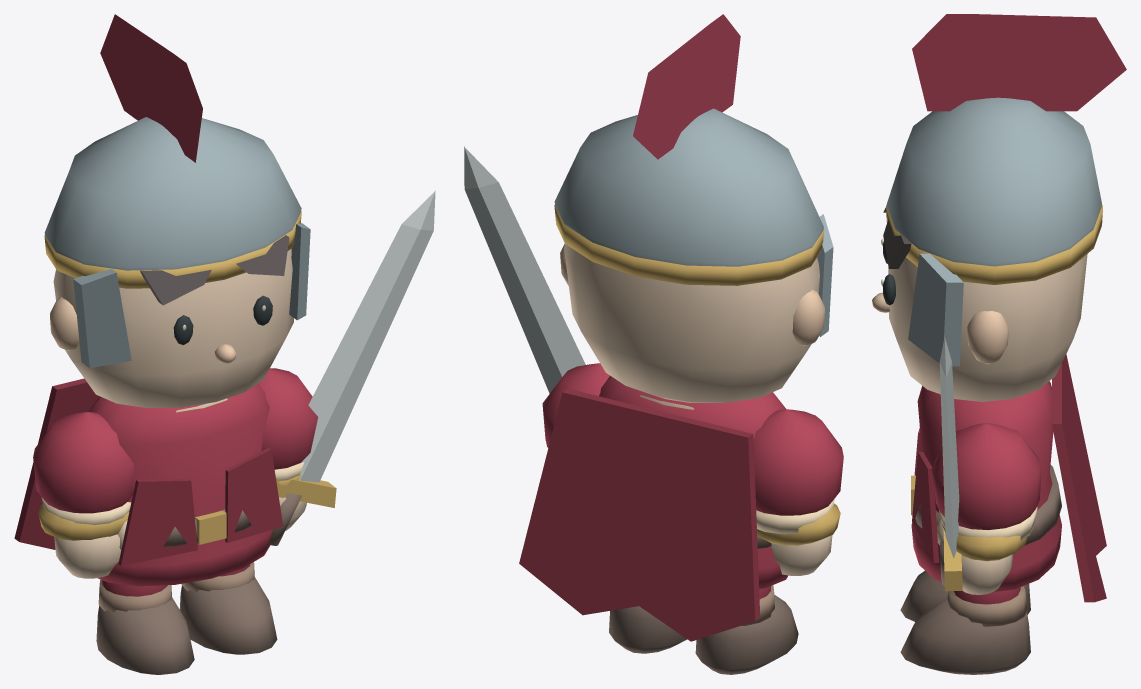
File: giant.glb
3 renders of one model, left to right at view 1: azimuth 30°, elevation 25°; view 2: azimuth 150°, elevation 25°; view 3: azimuth 270°, elevation 25°, orthographic. The views are drawn at different scales.
Visible parts, largest first — view 1: Regional helmet, Soft cheek head, Short folded tunic, Shaped bevel sword, Puff sleeve, Roman horsehair fan, Round leather boot, Round leather boot.001, Coat fold, Roman cheekplate, Puff sleeve.001, Coat fold.001 (+15 smaller); view 2: Short scalloped cape, Regional helmet, Soft cheek head, Shaped bevel sword, Roman horsehair fan, Puff sleeve, Helmet brow band, Short folded tunic, Round leather boot, Round leather boot.001, Puff sleeve.001, Little mitten (+4 smaller); view 3: Regional helmet, Roman horsehair fan, Soft cheek head, Short folded tunic, Puff sleeve.001, Round leather boot.001, Short scalloped cape, Roman cheekplate.001, Helmet brow band, Shaped bevel sword, Coat fold.001, Ear.001 (+9 smaller).
Part boxes in pixels (bbox=[...]): Regional helmet: bbox=[44, 117, 301, 270]; Soft cheek head: bbox=[53, 249, 293, 407]; Short folded tunic: bbox=[88, 383, 273, 586]; Shaped bevel sword: bbox=[299, 191, 435, 482]; Puff sleeve: bbox=[33, 412, 133, 513]; Roman horsehair fan: bbox=[100, 14, 202, 162]; Round leather boot: bbox=[96, 597, 194, 674]; Round leather boot.001: bbox=[179, 577, 277, 654]; Coat fold: bbox=[118, 479, 197, 565]; Roman cheekplate: bbox=[73, 269, 131, 367]; Puff sleeve.001: bbox=[258, 368, 318, 469]; Coat fold.001: bbox=[225, 448, 283, 542]; Short scalloped cape: bbox=[519, 388, 760, 641]; Regional helmet: bbox=[554, 108, 823, 266]; Soft cheek head: bbox=[564, 244, 819, 402]; Shaped bevel sword: bbox=[464, 146, 585, 393]; Roman horsehair fan: bbox=[633, 14, 740, 159]; Puff sleeve: bbox=[753, 409, 843, 515]; Helmet brow band: bbox=[554, 205, 824, 285]; Short folded tunic: bbox=[599, 376, 788, 588]; Round leather boot: bbox=[695, 595, 798, 674]; Round leather boot.001: bbox=[609, 606, 687, 653]; Puff sleeve.001: bbox=[542, 363, 609, 447]; Little mitten: bbox=[771, 535, 832, 575]; Regional helmet: bbox=[887, 97, 1101, 266]; Roman horsehair fan: bbox=[912, 14, 1126, 111]; Soft cheek head: bbox=[888, 254, 1087, 401]; Short folded tunic: bbox=[911, 381, 1061, 591]; Puff sleeve.001: bbox=[931, 423, 1041, 529]; Round leather boot.001: bbox=[900, 597, 1030, 674]; Short scalloped cape: bbox=[1052, 354, 1106, 602]; Roman cheekplate.001: bbox=[908, 253, 963, 366]; Helmet brow band: bbox=[886, 204, 1102, 284]; Shaped bevel sword: bbox=[939, 337, 959, 558]; Coat fold.001: bbox=[912, 452, 939, 562]; Ear.001: bbox=[967, 311, 1008, 364].
Size of the model in its own units: 1.65 by 2.51 by 0.9296.
